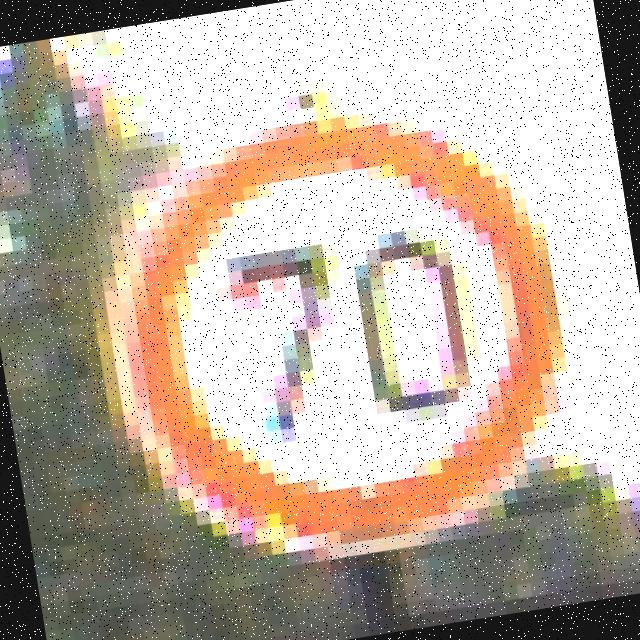Ograniczenie predkosci do 70: (88, 87, 588, 578)
